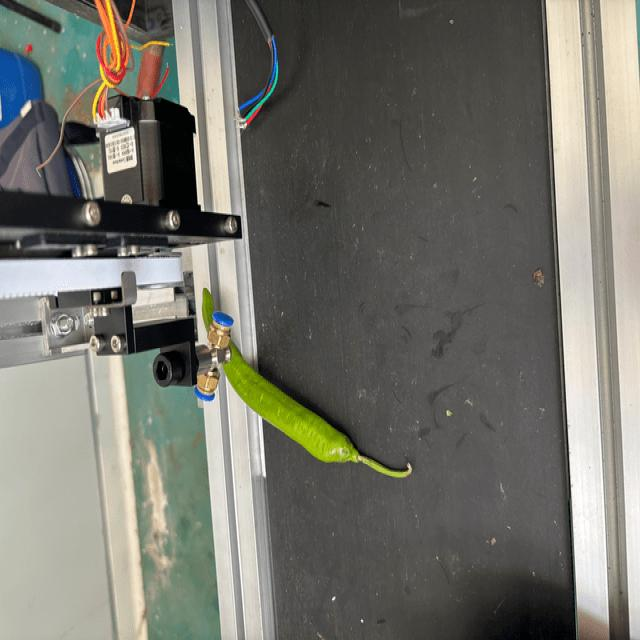chili: (201, 286, 356, 463)
